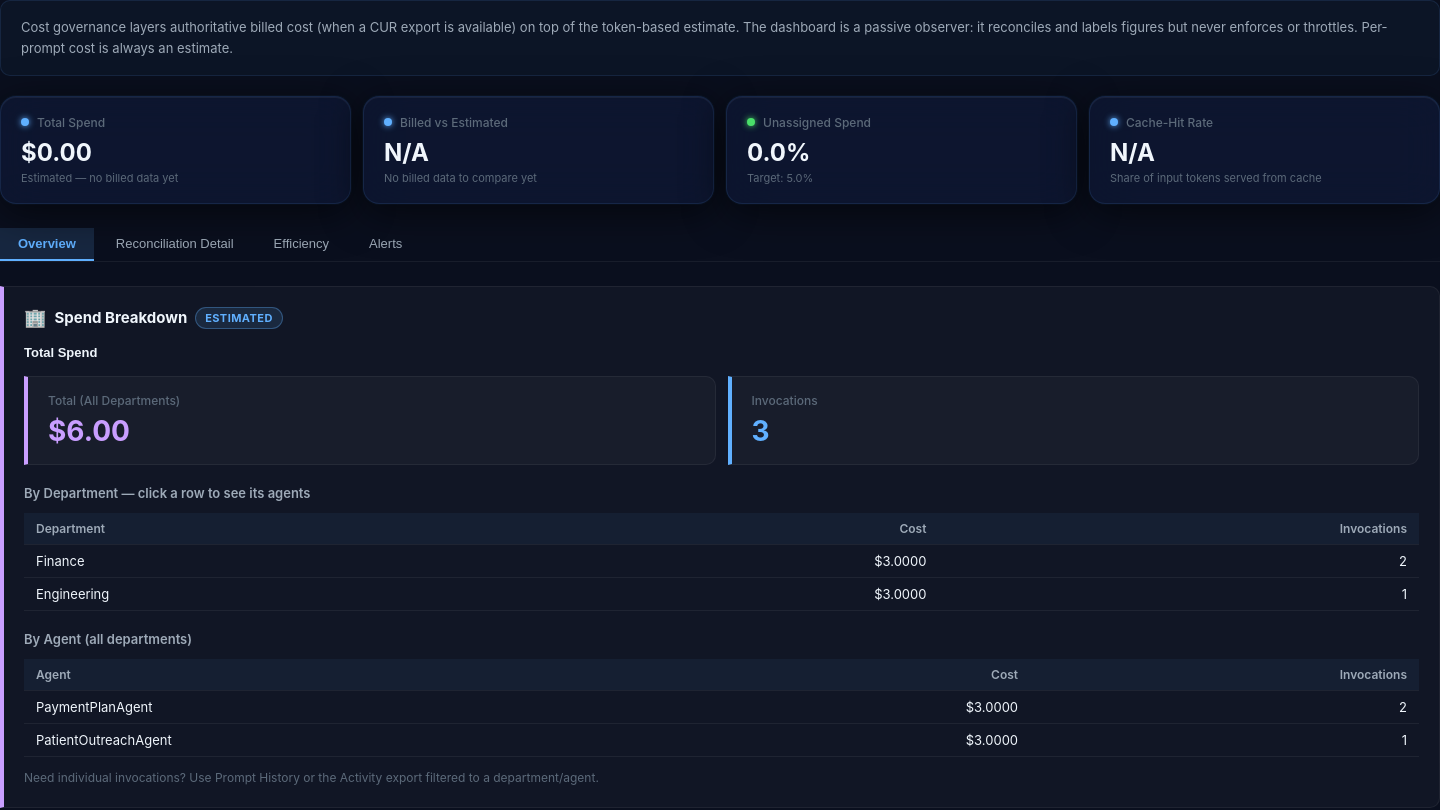
CostGovernanceTab — Overview spend breakdown (breadcrumb drill-down) › drills into a department: clicking a row re-fetches scoped total/agent data
The width and height of the screenshot is (1440, 810).
Click the row with test id "rollup-department-row-Finance" at (722, 561), box left=24, top=544, right=1419, bottom=578
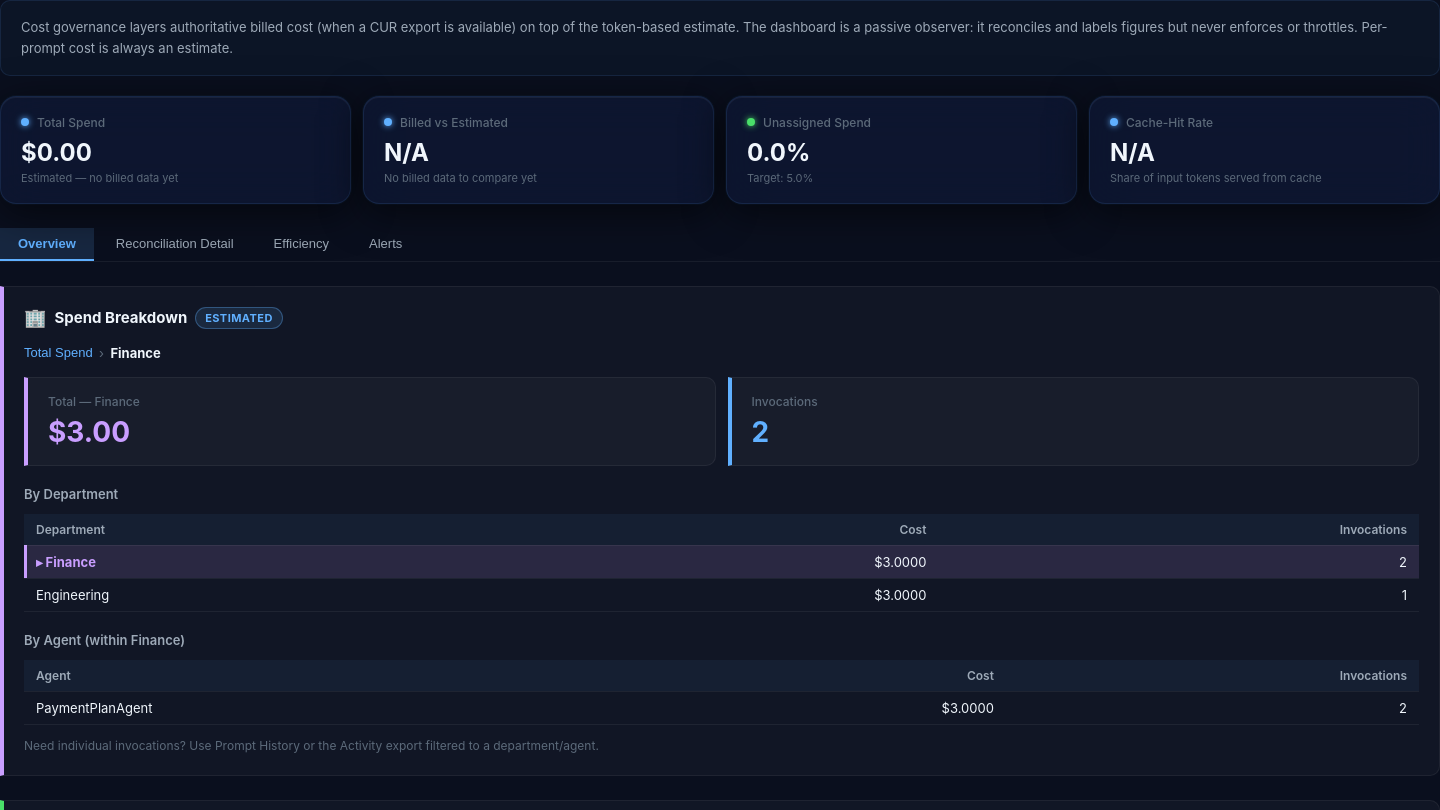
Expected: the text with test id "rollup-l1-total" shows "3.00", left=48, top=415, right=130, bottom=449
Expected: the row with test id "rollup-agent-row-PatientOutreachAgent" is gone
Expected: the element with test id "rollup-breadcrumb" shows "Finance", left=110, top=345, right=161, bottom=361
